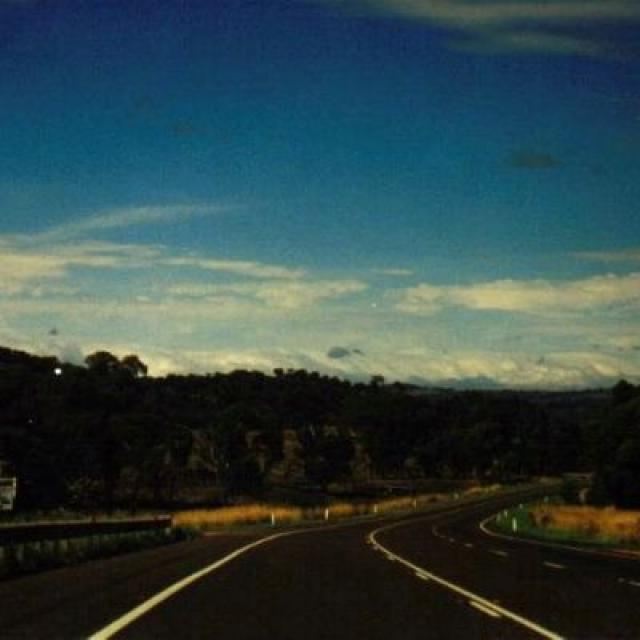Sc: (2, 110, 640, 370)
